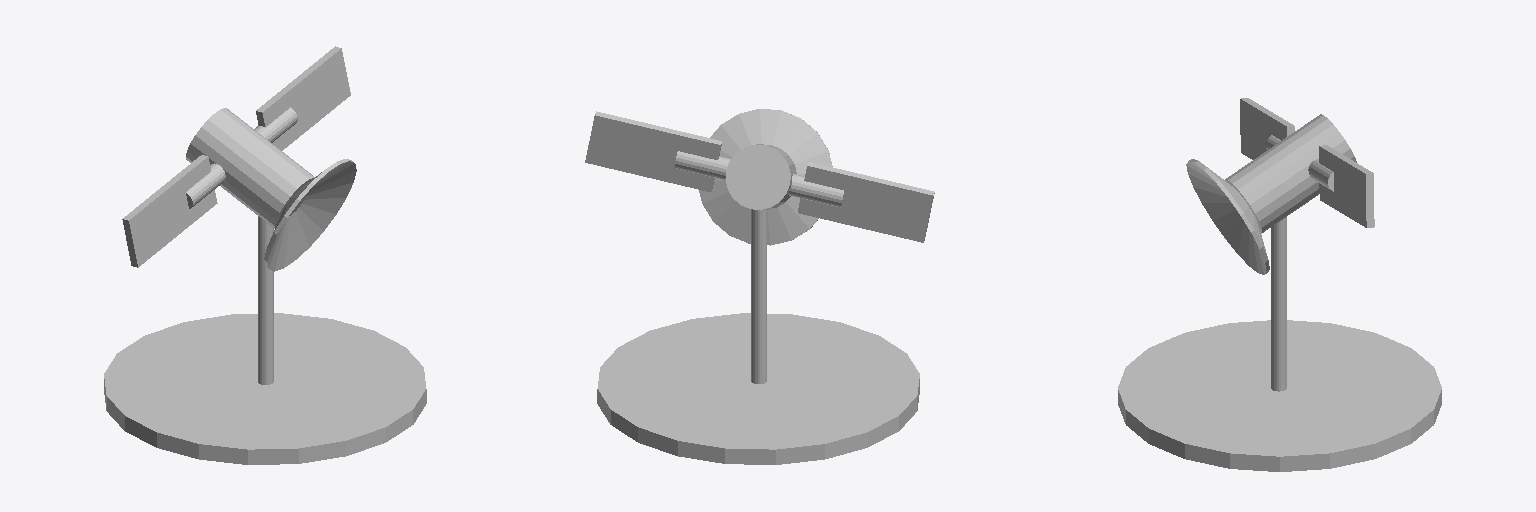
The model's file is satellite.obj.
3 renders of one model, left to right at view 1: azimuth 30°, elevation 25°; view 2: azimuth 150°, elevation 25°; view 3: azimuth 270°, elevation 25°, orthographic.
Visible parts, largest first — view 1: polySurface1; view 2: polySurface1; view 3: polySurface1.
Part boxes in pixels (bbox=[...]): polySurface1: bbox=[104, 46, 426, 464]; polySurface1: bbox=[585, 109, 934, 464]; polySurface1: bbox=[1118, 98, 1441, 471].
Size of the model in its own units: 2.01 by 1.86 by 1.89.